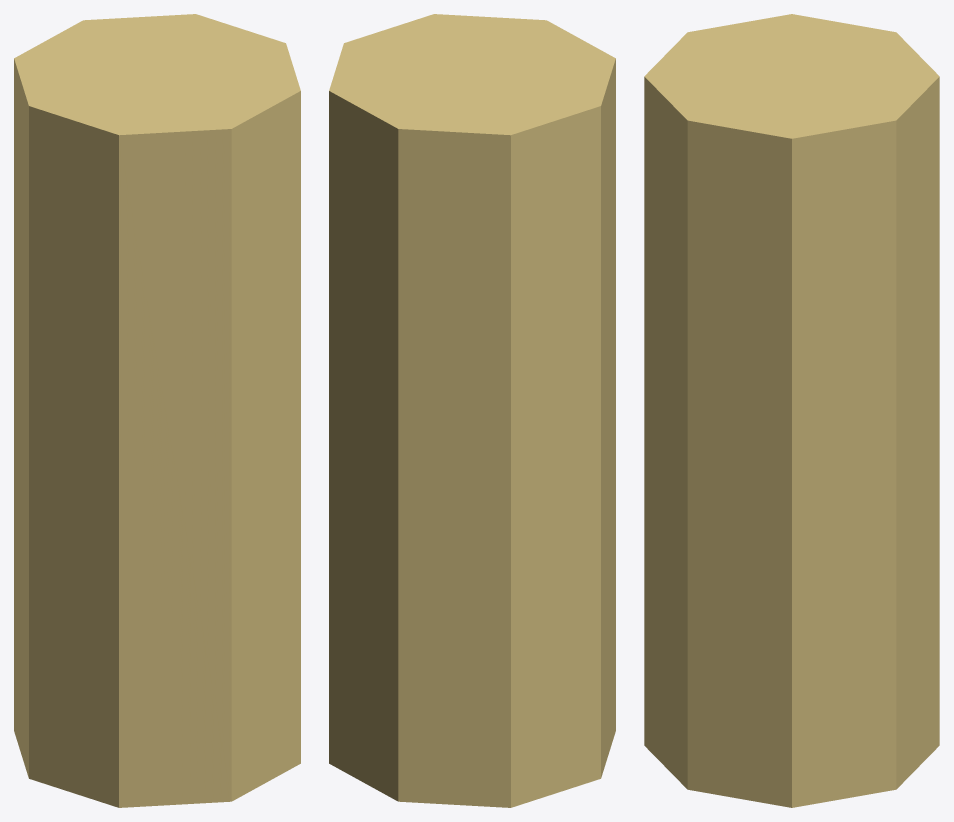
The model's file is shell_casing.glb.
3 renders of one model, left to right at view 1: azimuth 30°, elevation 25°; view 2: azimuth 150°, elevation 25°; view 3: azimuth 270°, elevation 25°, orthographic.
Parts seen in each view (by area): view 1: fx_shell_casing; view 2: fx_shell_casing; view 3: fx_shell_casing.
Boxes of the visible parts, x1,y1,x2,y2 form: fx_shell_casing: (14, 14, 300, 807); fx_shell_casing: (329, 14, 615, 807); fx_shell_casing: (644, 14, 939, 807).
Size of the model in its own units: 0.008 by 0.02 by 0.008.
